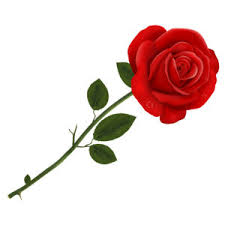rose: (121, 16, 225, 132)
